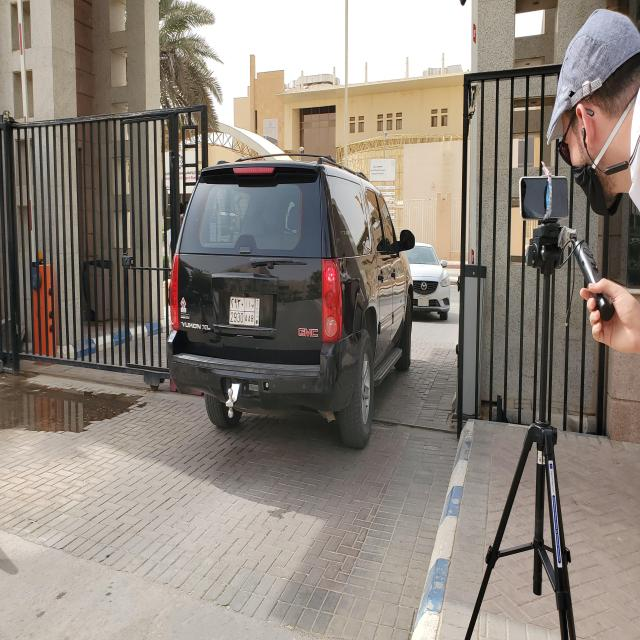license_plate: (228, 296, 260, 329), (418, 297, 429, 307)
